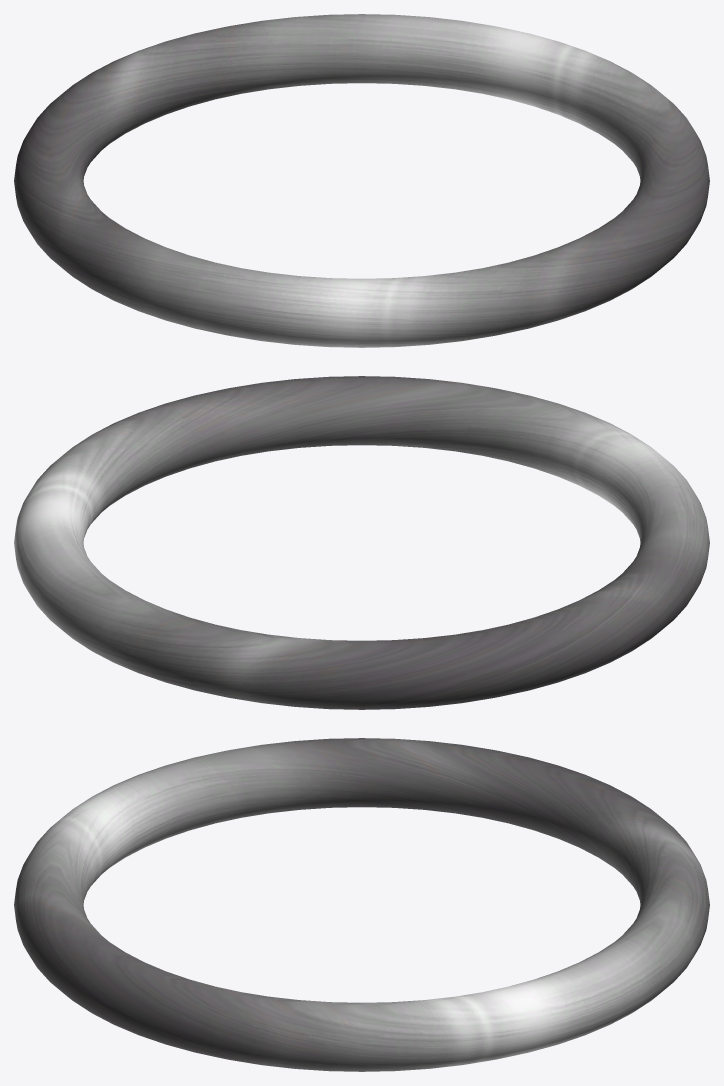
File: 丸い鎖パーツ.fbx
3 renders of one model, top to bottom at view 1: azimuth 30°, elevation 25°; view 2: azimuth 150°, elevation 25°; view 3: azimuth 270°, elevation 25°, orthographic.
Parts seen in each view (by area): view 1: 丸い鎖; view 2: 丸い鎖; view 3: 丸い鎖.
Part boxes in pixels (x1=…): 丸い鎖: x1=14, y1=14, x2=709, y2=347; 丸い鎖: x1=14, y1=376, x2=709, y2=709; 丸い鎖: x1=14, y1=738, x2=709, y2=1071.
Size of the model in its own units: 30.51 by 3.05 by 30.51.
Materials: 1 (1 with a texture image).
